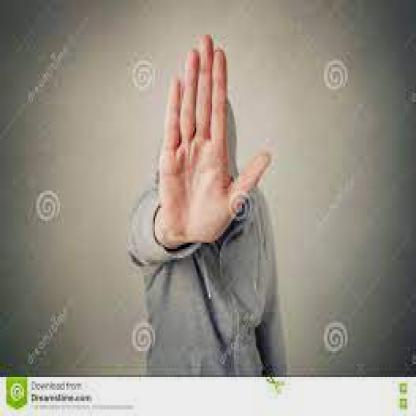Stop: (121, 23, 275, 235)
